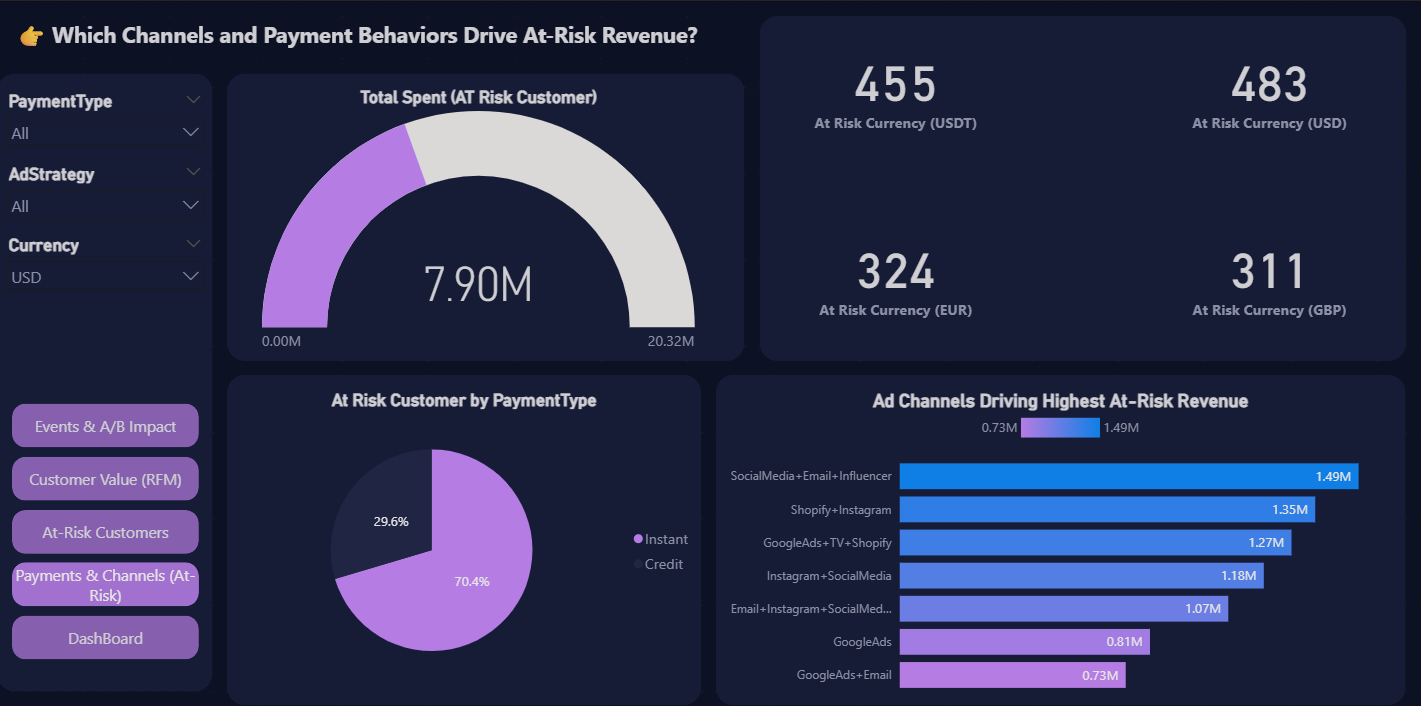

This screenshot's page, from the dashboard's own definition file:
{"tool":"powerbi","page":{"name":"Payments & Channels (At-Risk)","canvas":[1600,800],"ordinal":3},"visuals":[{"type":"shape","box":[848,16,720,384],"z":0},{"type":"shape","box":[256,416,528,368],"z":1000},{"type":"shape","box":[800,416,768,368],"z":2000},{"type":"shape","box":[256,80,576,320],"z":3000},{"type":"clusteredBarChart","title":"Ad Channels Driving Highest At-Risk Revenue","fields":{"Category":["branches.CurrentAdStrategy"],"Y":["Measure Table.Sum Sales (AT Risk Customer)"]},"box":[800,432,768,352],"z":4000},{"type":"card","fields":{"Values":["Measure Table.At Risk Currency (USD)"]},"box":[1264,16,304,160],"z":5000},{"type":"card","fields":{"Values":["Measure Table.At Risk Currency (USDT)"]},"box":[848,16,304,160],"z":6000},{"type":"gauge","title":"Total Spent (AT Risk Customer) ","fields":{"Y":["Measure Table.Sum Sales (AT Risk Customer)"],"MaxValue":["Sum(arpand_ecommerce_dataset.CleanTotalSpent)"]},"box":[256,96,560,304],"z":7000},{"type":"pieChart","fields":{"Category":["arpand_ecommerce_dataset.PaymentType"],"Y":["Measure Table.At Risk Customer"]},"box":[256,432,528,336],"z":8000},{"type":"card","fields":{"Values":["Measure Table.At Risk Currency (EUR)"]},"box":[848,208,304,192],"z":9000},{"type":"card","fields":{"Values":["Measure Table.At Risk Currency (GBP)"]},"box":[1264,208,304,192],"z":10000},{"type":"shape","box":[0,80,240,688],"z":11000},{"type":"slicer","fields":{"Values":["arpand_ecommerce_dataset.PaymentType"]},"box":[0,96,240,80],"z":12000},{"type":"slicer","fields":{"Values":["ad_history.AdStrategy"]},"box":[0,176,240,80],"z":13000},{"type":"slicer","fields":{"Values":["arpand_ecommerce_dataset.Currency"]},"box":[0,256,240,80],"z":14000},{"type":"pageNavigator","box":[16,448,208,288],"z":15000},{"type":"textbox","box":[16,16,800,64],"z":16000}]}

Visuals, with their boxes in screenshot pixels (x1, y1, x2, y2), scaled from the page's 1600x800 canvas onto the 1421x706 screenshot:
shape: [753,14,1393,353]
shape: [227,367,696,692]
shape: [710,367,1393,692]
shape: [227,71,739,353]
"Ad Channels Driving Highest At-Risk Revenue" clusteredBarChart: [710,381,1393,692]
card - Measure Table.At Risk Currency (USD): [1123,14,1393,155]
card - Measure Table.At Risk Currency (USDT): [753,14,1023,155]
"Total Spent (AT Risk Customer) " gauge: [227,85,725,353]
pieChart - arpand_ecommerce_dataset.PaymentType x Measure Table.At Risk Customer: [227,381,696,678]
card - Measure Table.At Risk Currency (EUR): [753,184,1023,353]
card - Measure Table.At Risk Currency (GBP): [1123,184,1393,353]
shape: [0,71,213,678]
slicer - arpand_ecommerce_dataset.PaymentType: [0,85,213,155]
slicer - ad_history.AdStrategy: [0,155,213,226]
slicer - arpand_ecommerce_dataset.Currency: [0,226,213,297]
pageNavigator: [14,395,199,650]
textbox: [14,14,725,71]
